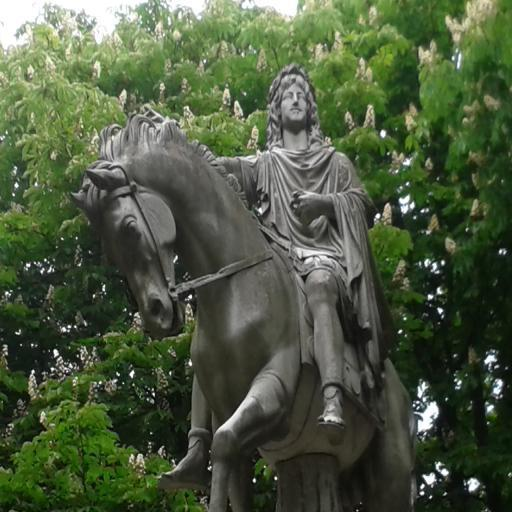horse: (68, 107, 418, 512)
